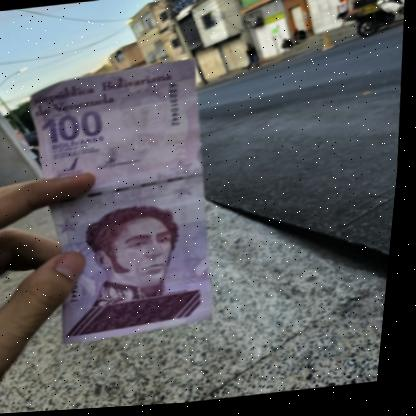one_hundred-front-vef: (12, 56, 238, 350)
